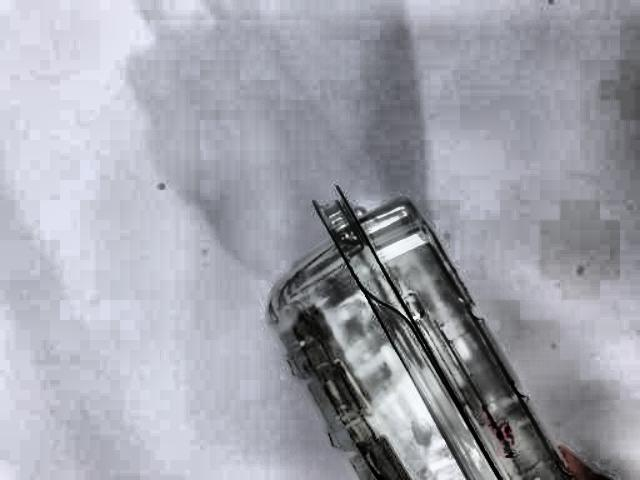Plastic: (259, 195, 590, 477)
